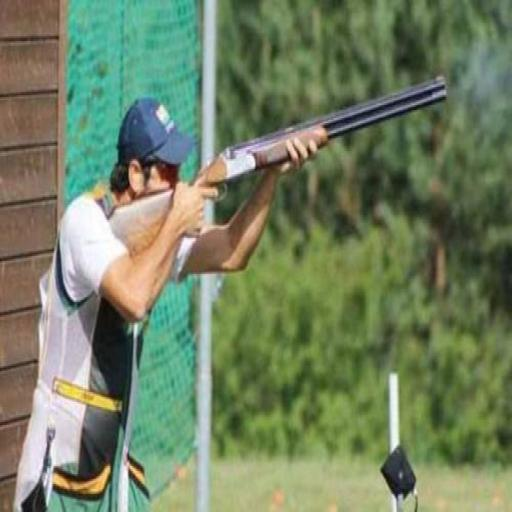shooting: (11, 94, 332, 510)
